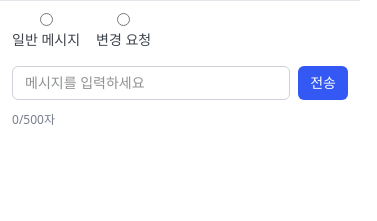
Test case: ChatMessageInput — BR-05 일반/변경요청 명시적 선택 (§4.1 필수 RTL 테스트) › 요청 유형이 '수정'인데 대상 일정을 선택하지 않으면 전송이 차단됨
Click the radio button labelled "변경 요청". click: {"x": 124, "y": 20}
box: [117,13,130,26]
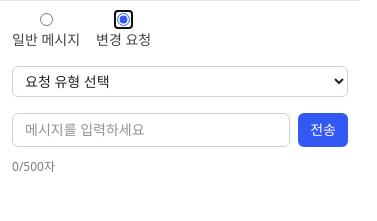
Type "일정을 옮겨주세요" into the field labelled "메시지". click: {"x": 151, "y": 130}
box: [12,113,290,147]
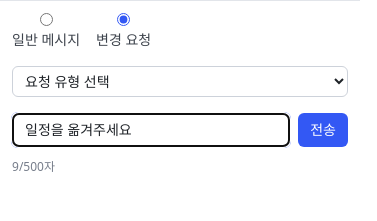
Select "수정" in the dropdown named "요청 유형". click: {"x": 180, "y": 82}
box: [12,66,348,97]
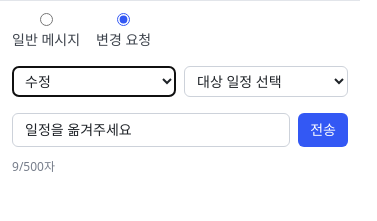
Click the button "전송". click: {"x": 323, "y": 130}
box: [298,113,348,147]
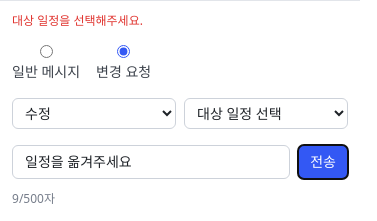
Expected: the text "대상 일정을 선택해주세요." is shown, [12,12,143,29]
